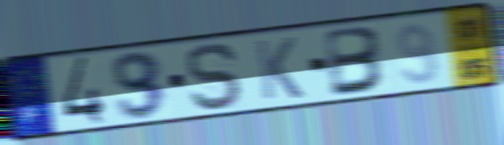4: (57, 54, 111, 128)
9: (108, 48, 170, 121), (395, 21, 442, 87)
B: (323, 24, 388, 100)
K: (252, 35, 307, 103)
S: (184, 40, 247, 112)
